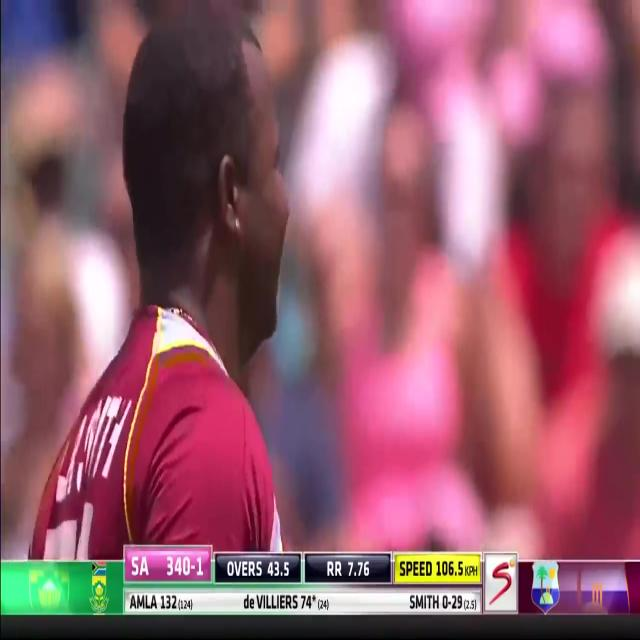Fielder: (17, 1, 302, 554)
